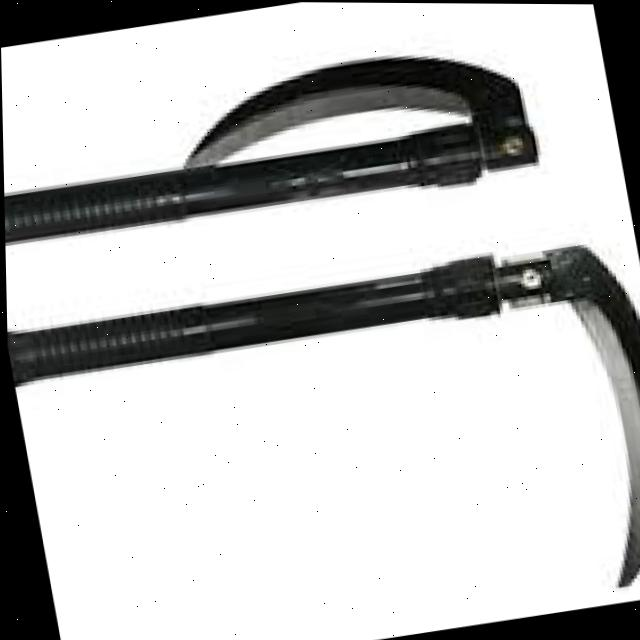sickle: (4, 202, 640, 640)
